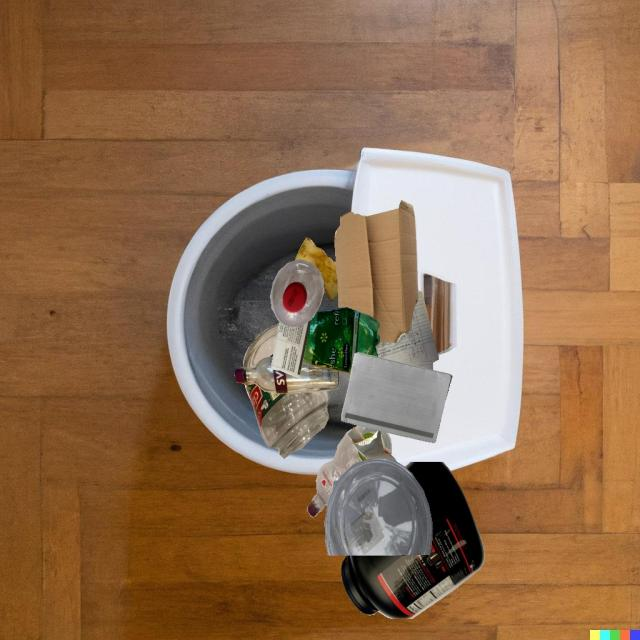biowaste: (295, 238, 338, 301)
cardboard: (334, 200, 418, 343), (347, 427, 397, 462)
glass: (245, 383, 329, 459), (235, 357, 340, 394), (358, 434, 384, 450), (381, 431, 392, 452), (361, 428, 378, 438), (357, 450, 368, 461)
paper: (341, 352, 452, 443), (376, 291, 438, 370), (271, 319, 311, 378)
plastic: (341, 462, 485, 619), (325, 458, 432, 556), (303, 307, 380, 373), (307, 428, 361, 517), (270, 259, 324, 327), (333, 480, 338, 490)
